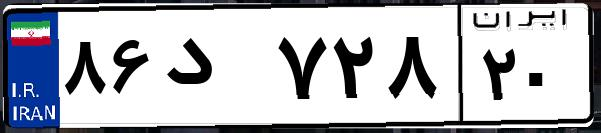0: (525, 38, 570, 115)
2: (330, 28, 385, 110), (475, 38, 525, 113)
6: (110, 28, 158, 98)
7: (270, 28, 330, 110)
8: (385, 28, 445, 110), (57, 26, 110, 100)
د: (158, 20, 270, 120)
